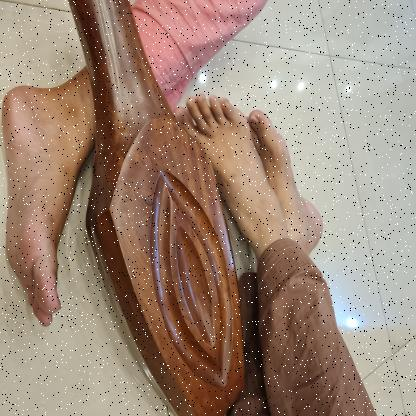leg: (0, 59, 99, 331), (173, 88, 288, 266), (245, 98, 332, 252)
